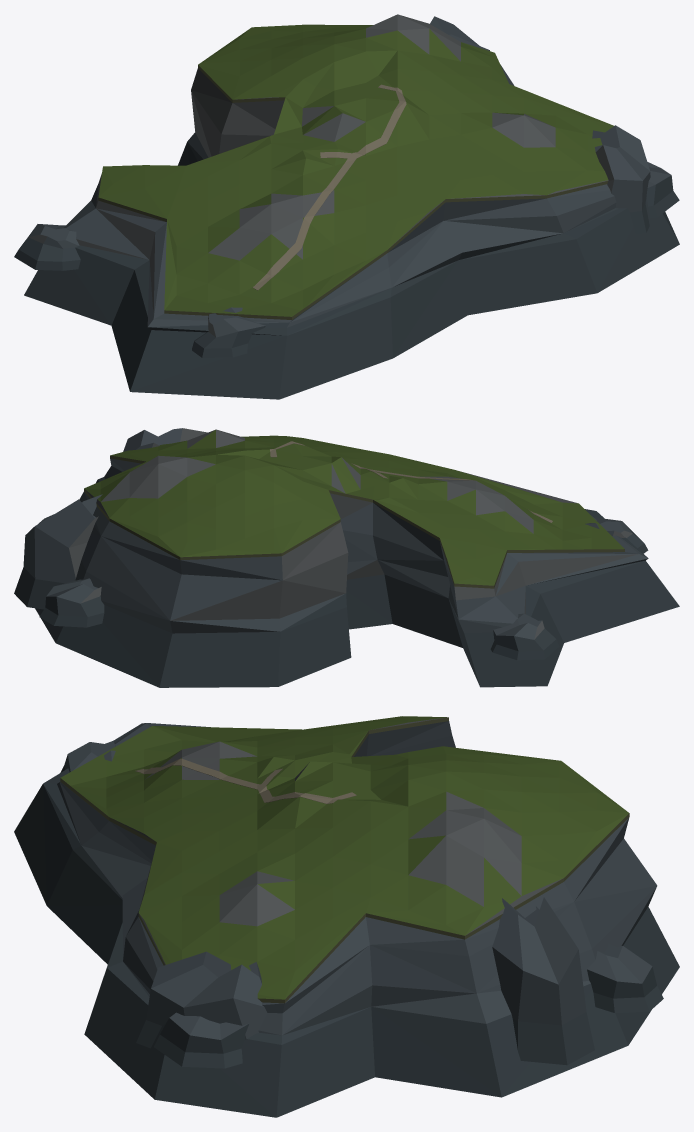
Rendered from island_b.glb.
3 views of the same model, one above another, from view 1: azimuth 30°, elevation 25°; view 2: azimuth 150°, elevation 25°; view 3: azimuth 270°, elevation 25° (orthographic). The views are drawn at different scales.
Parts seen in each view (by area): view 1: island_b_Coast short olive grass, island_b_Coast blue grey bedrock, island_b_Coast weathered stone footpath; view 2: island_b_Coast blue grey bedrock, island_b_Coast short olive grass, island_b_Coast weathered stone footpath; view 3: island_b_Coast blue grey bedrock, island_b_Coast short olive grass, island_b_Coast weathered stone footpath.
Boxes of the visible parts, left/top/right/bottom form: island_b_Coast short olive grass: left=98, top=14, right=613, bottom=319; island_b_Coast blue grey bedrock: left=14, top=16, right=679, bottom=399; island_b_Coast weathered stone footpath: left=252, top=84, right=406, bottom=290; island_b_Coast blue grey bedrock: left=14, top=428, right=679, bottom=687; island_b_Coast short olive grass: left=84, top=429, right=624, bottom=588; island_b_Coast weathered stone footpath: left=270, top=441, right=552, bottom=522; island_b_Coast blue grey bedrock: left=14, top=721, right=679, bottom=1117; island_b_Coast short olive grass: left=60, top=716, right=629, bottom=1003; island_b_Coast weathered stone footpath: left=135, top=758, right=356, bottom=803.
Bounding box in the file's own units: 127 × 33.89 × 103.
